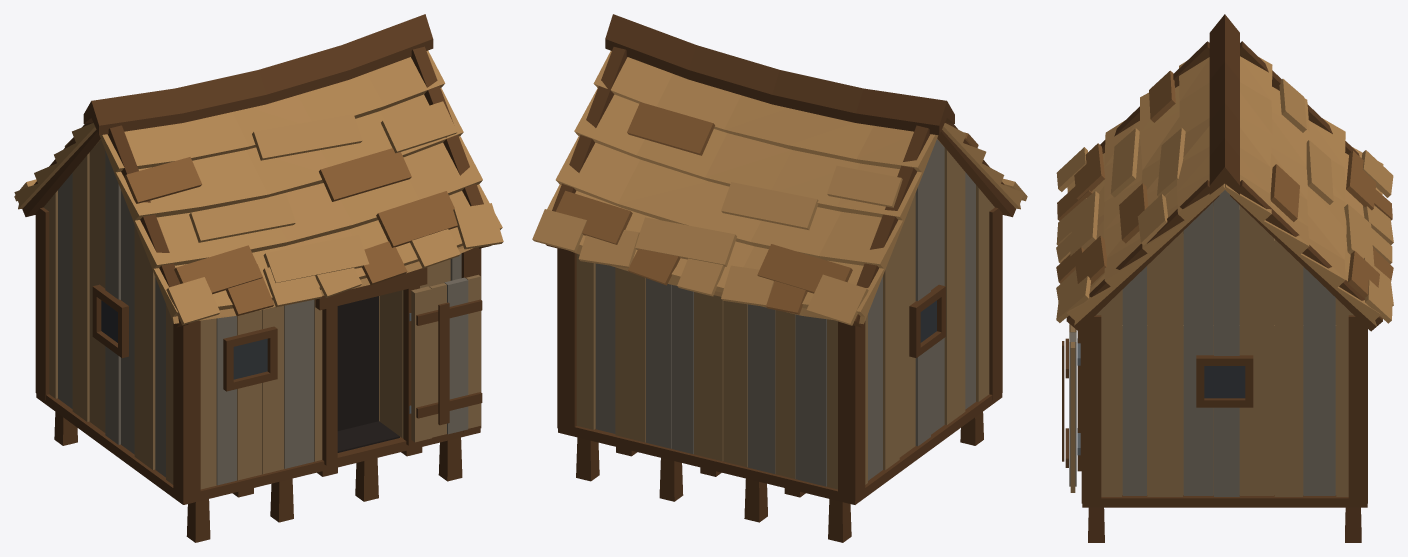
File: fisherman-shack-ea9b2b.glb
3 views of the same model, side by side, from view 1: azimuth 30°, elevation 25°; view 2: azimuth 150°, elevation 25°; view 3: azimuth 270°, elevation 25° (orthographic). The views are drawn at different scales.
Visible parts, largest first — view 1: shack-shell, door-leaf; view 2: shack-shell; view 3: shack-shell, door-leaf.
Part boxes in pixels (x1,y1,x2,y2): shack-shell: (14, 14, 503, 542); door-leaf: (409, 274, 482, 442); shack-shell: (532, 14, 1027, 542); shack-shell: (1056, 14, 1393, 542); door-leaf: (1062, 324, 1080, 492).
Bounding box in the file's own units: 4.72 × 5.45 × 4.26.
